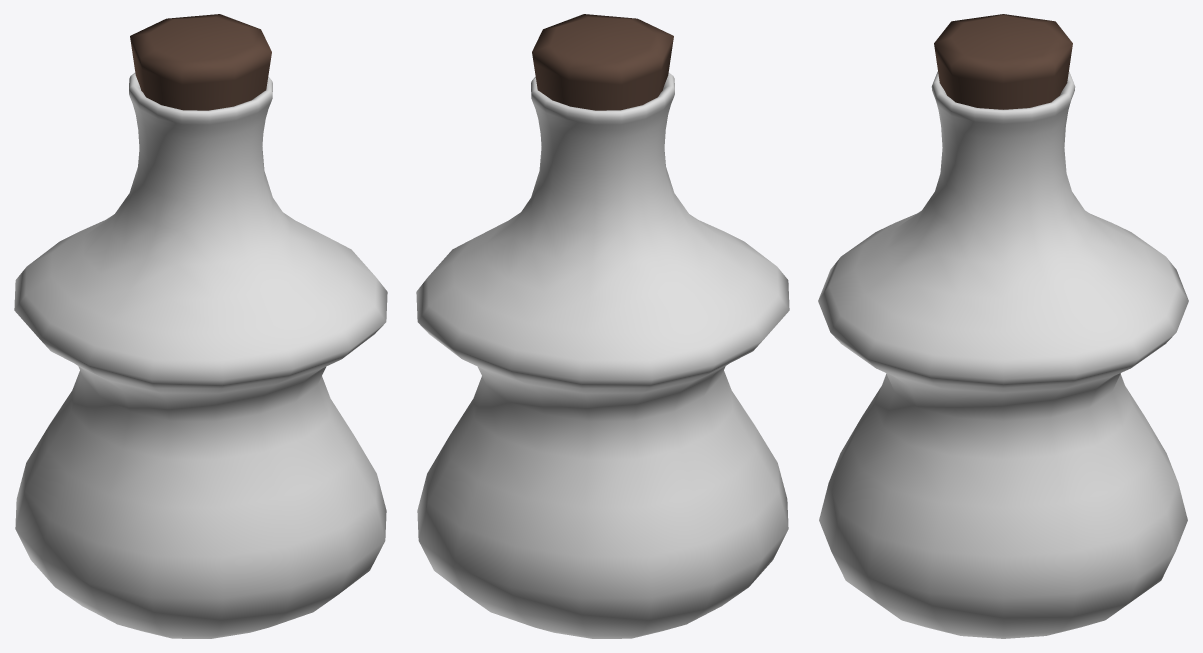
File: potion5_empty.glb
3 views of the same model, side by side, from view 1: azimuth 30°, elevation 25°; view 2: azimuth 150°, elevation 25°; view 3: azimuth 270°, elevation 25° (orthographic).
Visible parts, largest first — view 1: Potion5_Empty; view 2: Potion5_Empty; view 3: Potion5_Empty.
Part boxes in pixels (bbox=[...]): Potion5_Empty: bbox=[14, 14, 387, 638]; Potion5_Empty: bbox=[416, 14, 789, 638]; Potion5_Empty: bbox=[818, 14, 1188, 638].
Size of the model in its own units: 0.7081 by 1.23 by 0.7081.
